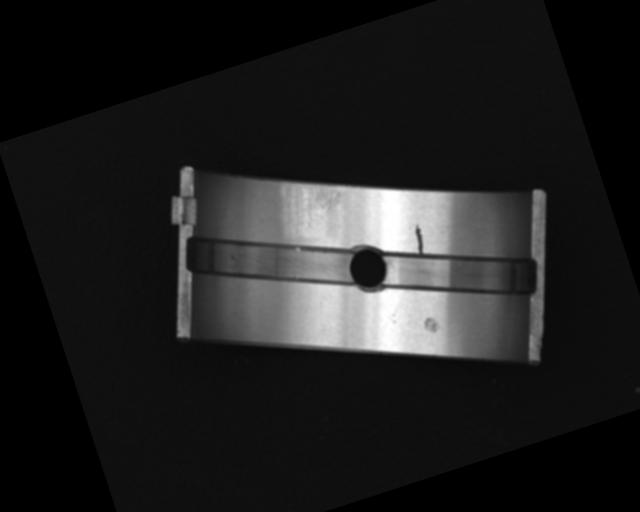bruise: (419, 313, 441, 336)
gap: (184, 197, 360, 327), (379, 218, 542, 333)
hole: (344, 243, 394, 294)
nick: (408, 220, 429, 256)
scratch: (270, 157, 350, 243)
